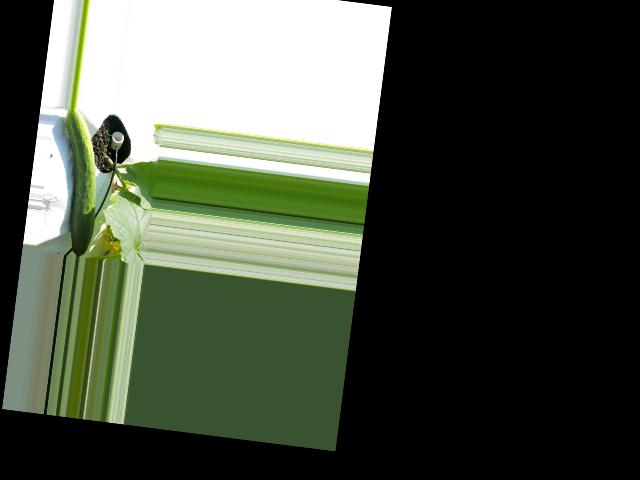cucumber: (48, 106, 108, 258)
